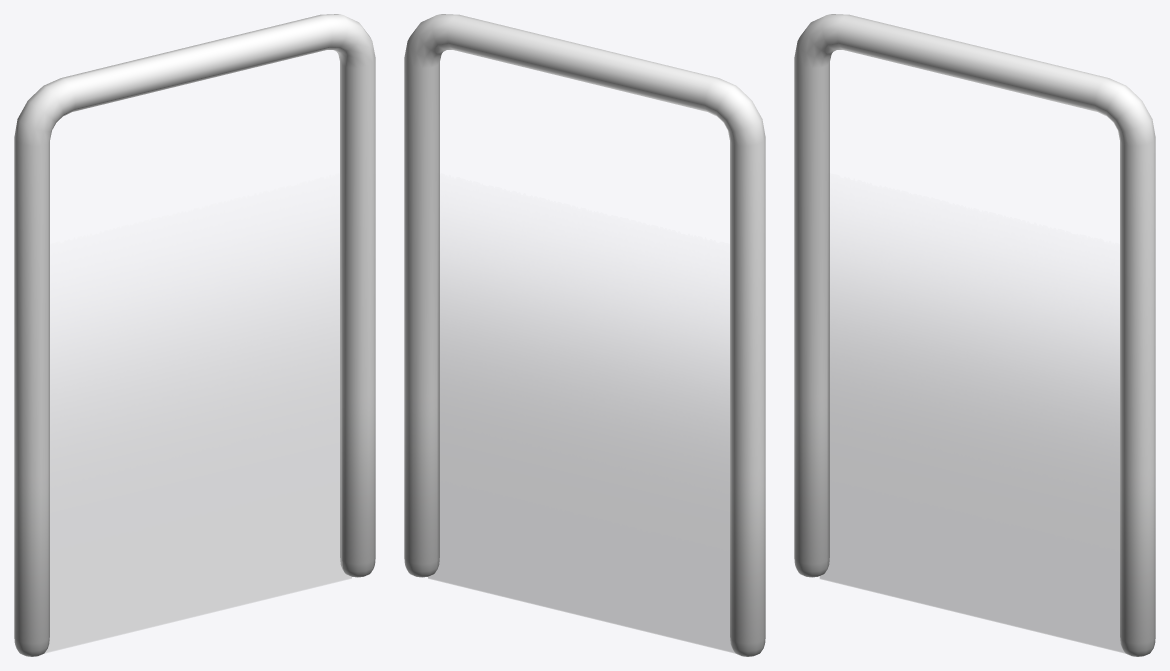
Rendered from Gate_model.glb.
3 renders of one model, left to right at view 1: azimuth 30°, elevation 25°; view 2: azimuth 150°, elevation 25°; view 3: azimuth 330°, elevation 25°, orthographic.
Parts seen in each view (by area): view 1: Plane, Door_Green; view 2: Plane, Door_Green; view 3: Plane, Door_Green.
Part boxes in pixels (<box>): Plane: <box>45,247,351,653</box>; Door_Green: <box>14,14,375,656</box>; Plane: <box>428,247,734,653</box>; Door_Green: <box>404,14,765,656</box>; Plane: <box>819,247,1124,653</box>; Door_Green: <box>794,14,1155,656</box>.
Size of the model in its own units: 4.87 by 7.42 by 0.4213.
2 materials, 2 textured.
